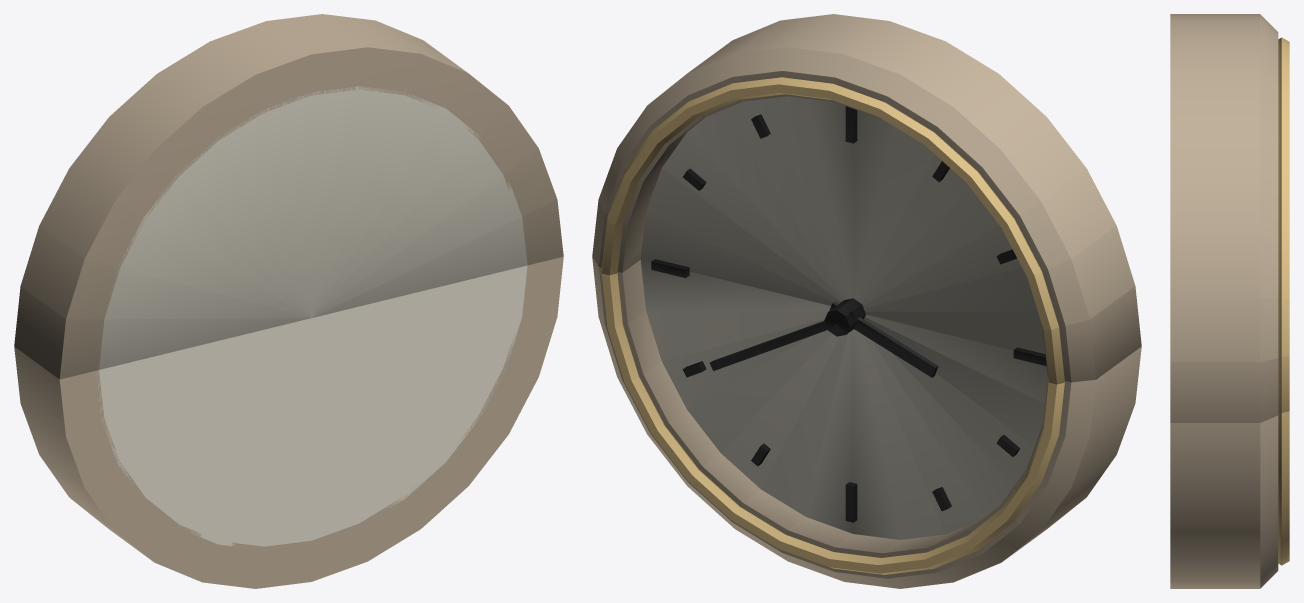
Rendered from wall_clock.glb.
3 views of the same model, side by side, from view 1: azimuth 30°, elevation 25°; view 2: azimuth 150°, elevation 25°; view 3: azimuth 270°, elevation 25° (orthographic).
Visible parts, largest first — view 1: static; view 2: static; view 3: static.
Part boxes in pixels (x1=…): static: x1=14, y1=14, x2=563, y2=588; static: x1=592, y1=14, x2=1141, y2=588; static: x1=1170, y1=14, x2=1289, y2=588.
Size of the model in its own units: 0.32 by 0.32 by 0.0663.
